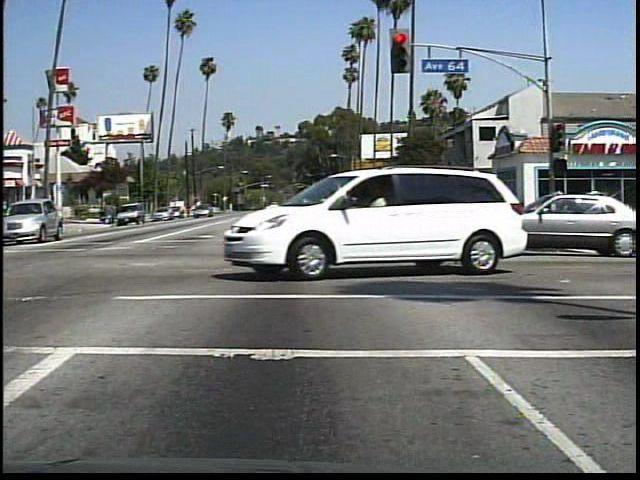person: (545, 187, 571, 237)
